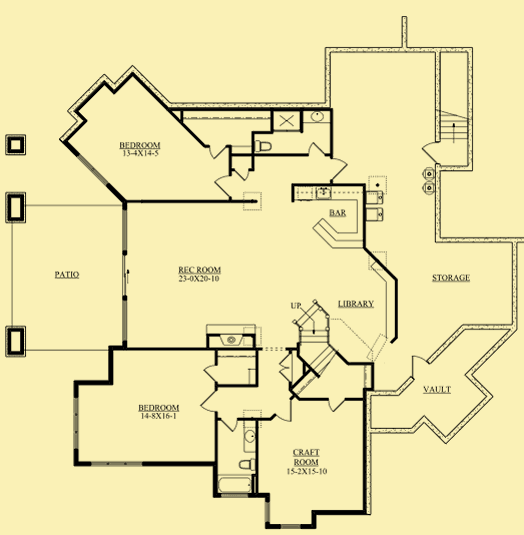door: (213, 172, 236, 202), (197, 386, 220, 416), (276, 349, 294, 387), (271, 395, 294, 424), (329, 155, 352, 182), (409, 348, 428, 380), (324, 393, 349, 413), (205, 142, 230, 161), (219, 414, 244, 433), (304, 139, 328, 157), (201, 362, 220, 384), (232, 165, 253, 182)
large sink: (253, 137, 276, 155), (234, 455, 258, 472)
sink: (314, 185, 332, 203)
small sink: (242, 422, 257, 453), (301, 109, 332, 123)
stairs: (435, 106, 473, 172), (287, 294, 332, 348)
tub: (215, 472, 259, 496)
windows: (87, 457, 146, 470), (118, 248, 132, 302), (72, 395, 83, 453), (277, 520, 306, 533)
